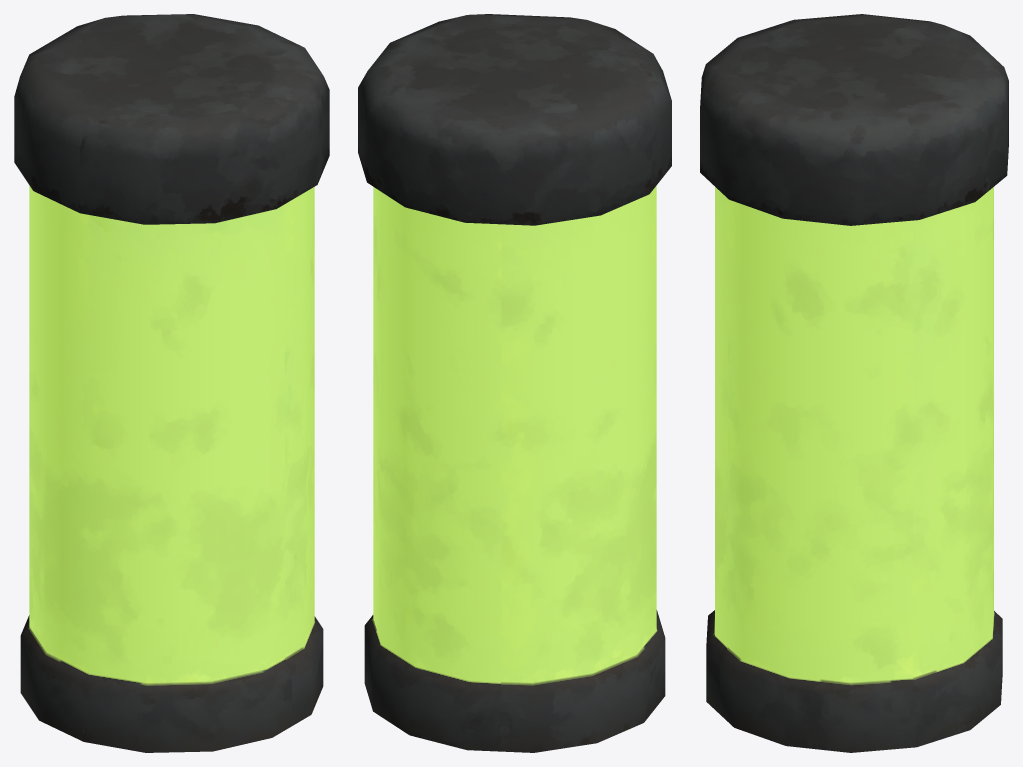
The model's file is Body1.gltf.
The picture shows the model from 3 angles, left to right: view 1: azimuth 30°, elevation 25°; view 2: azimuth 150°, elevation 25°; view 3: azimuth 270°, elevation 25°; orthographic projection.
Visible parts, largest first — view 1: FlaskV2; view 2: FlaskV2; view 3: FlaskV2.
Boxes of the visible parts, x1,y1,x2,y2 form: FlaskV2: (14, 14, 329, 752); FlaskV2: (358, 14, 671, 752); FlaskV2: (700, 14, 1008, 752).
Bounding box in the file's own units: 5.1 × 11.05 × 5.
1 material, 1 textured.
